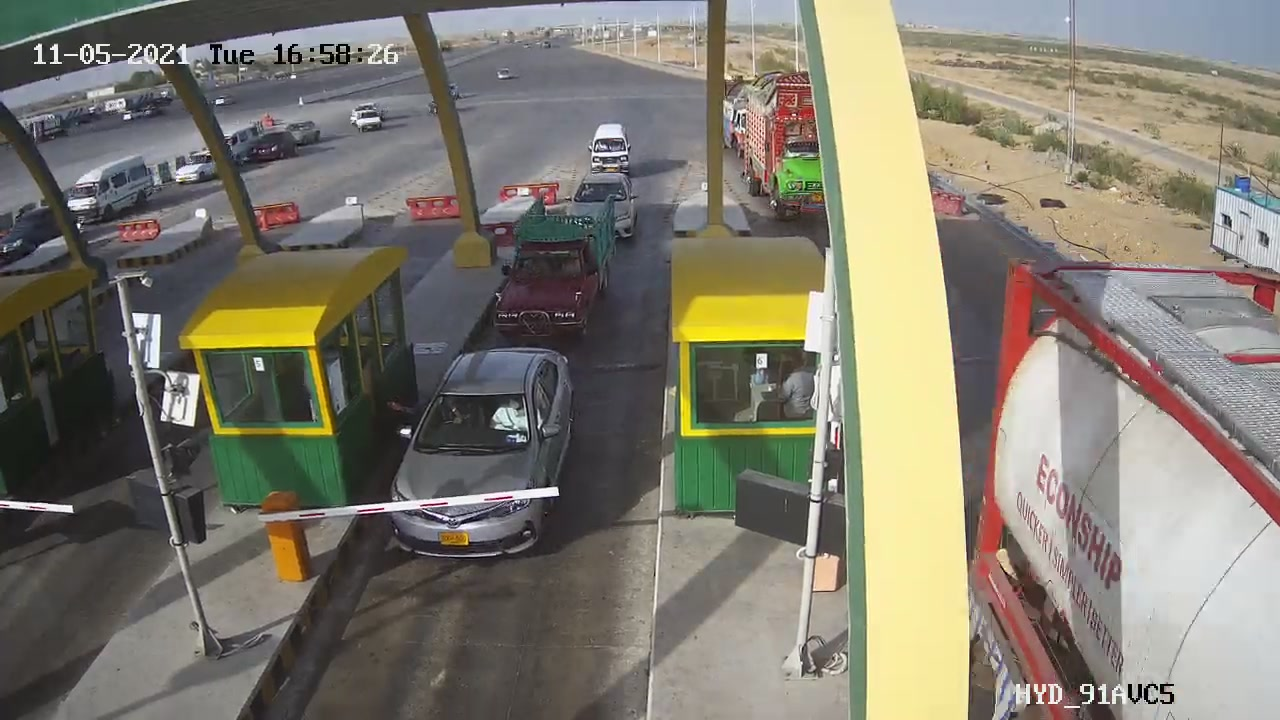F1: (372, 333, 592, 575)
